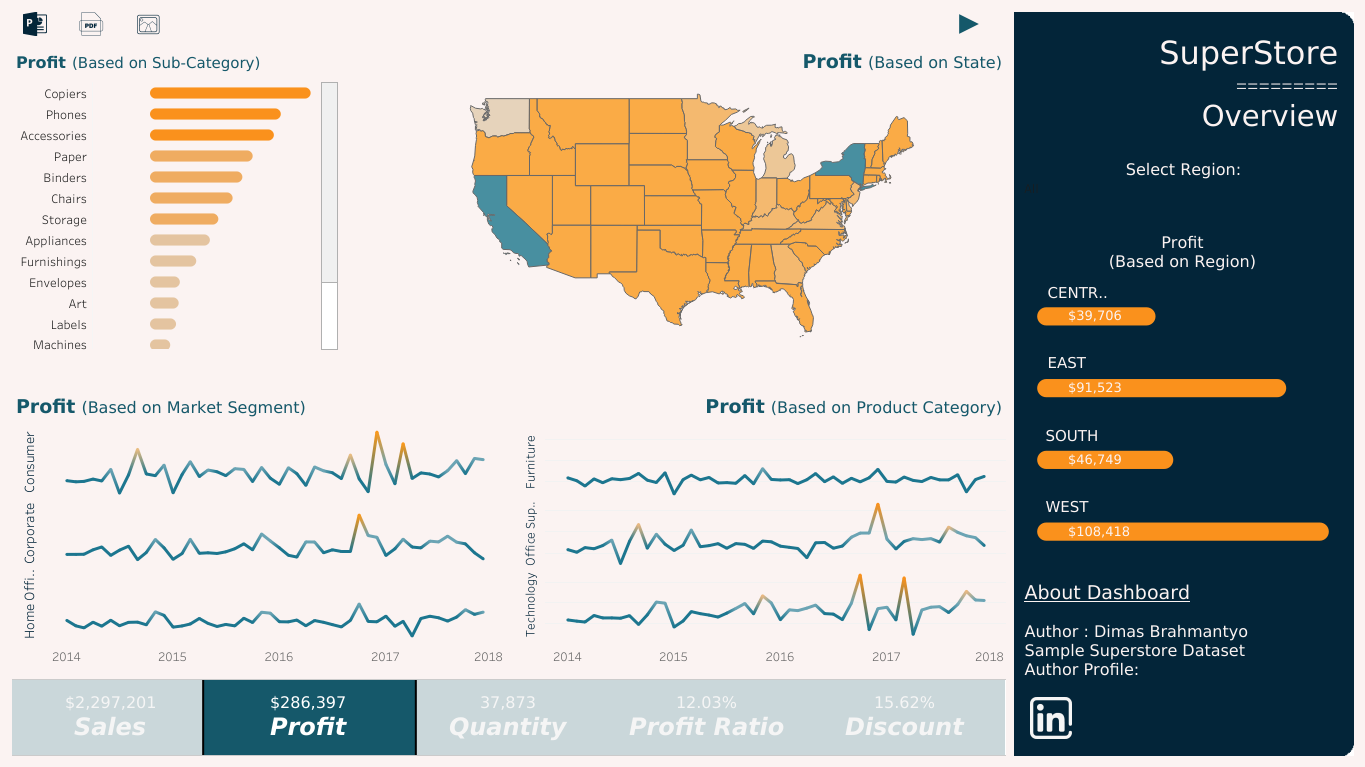

Layout of this report page (visuals, bound fields, positions):
{"tool":"tableau","page":{"name":"Dashboard 1 - Overview","canvas":[1366,768],"ordinal":0},"visuals":[{"type":"dashboard-object","box":[8,8,54,32]},{"type":"dashboard-object","box":[62,8,60,32]},{"type":"dashboard-object","box":[122,8,53,32]},{"type":"worksheet","title":"Next","mark":"Shape","rows":["Calculation_132293265469534221"],"box":[928,8,82,32]},{"type":"image","param":"Image/2.png","box":[1010,8,348,752]},{"type":"text","box":[1025,21,316,125]},{"type":"worksheet","title":"Sub Category Chart","mark":"Line","rows":["Sub-Category"],"box":[8,40,334,313]},{"type":"worksheet","title":"Based on State Map Chart","mark":"Automatic","box":[374,40,636,313]},{"type":"filter","title":"Based on State Map Chart","param":"[federated.1u37z9d020ffhv1e04nla11qurtp].[a1. Select Region Set]","box":[1022,159,323,55]},{"type":"worksheet","title":"Region Button","mark":"Line","rows":["Region"],"box":[1023,227,319,340]},{"type":"text","box":[1045,278,66,30]},{"type":"text","box":[1045,348,100,30]},{"type":"worksheet","title":"Market Segment Chart","mark":"Automatic","rows":["Segment","Calculation_1180506078081609731"],"cols":["Order Date"],"box":[8,385,501,290]},{"type":"worksheet","title":"Product Category Chart","mark":"Automatic","rows":["Category","Calculation_1180506078081609731"],"cols":["Order Date"],"box":[509,385,501,290]},{"type":"text","box":[1043,421,100,30]},{"type":"text","box":[1043,492,100,30]},{"type":"text","box":[1022,577,272,106]},{"type":"worksheet","title":"Field Button","mark":"Shape","box":[8,675,1002,85]},{"type":"worksheet","title":"LinkedIn","mark":"Shape","rows":["Calculation_1125055507973922816"],"box":[1022,691,57,53]}]}

Visuals, with their boxes on the page's 1366x768 design canvas (x1, y1, x2, y2). These are canvas units, not pixel positions in the 1365x767 screenshot, which may show the page scaled, cropped or inside an application window:
dashboard-object: (x1=8, y1=8, x2=62, y2=40)
dashboard-object: (x1=62, y1=8, x2=122, y2=40)
dashboard-object: (x1=122, y1=8, x2=175, y2=40)
"Next" worksheet (Shape marks): (x1=928, y1=8, x2=1010, y2=40)
image: (x1=1010, y1=8, x2=1358, y2=760)
text: (x1=1025, y1=21, x2=1341, y2=146)
"Sub Category Chart" worksheet (Line marks): (x1=8, y1=40, x2=342, y2=353)
"Based on State Map Chart" worksheet: (x1=374, y1=40, x2=1010, y2=353)
"Based on State Map Chart" filter: (x1=1022, y1=159, x2=1345, y2=214)
"Region Button" worksheet (Line marks): (x1=1023, y1=227, x2=1342, y2=567)
text: (x1=1045, y1=278, x2=1111, y2=308)
text: (x1=1045, y1=348, x2=1145, y2=378)
"Market Segment Chart" worksheet: (x1=8, y1=385, x2=509, y2=675)
"Product Category Chart" worksheet: (x1=509, y1=385, x2=1010, y2=675)
text: (x1=1043, y1=421, x2=1143, y2=451)
text: (x1=1043, y1=492, x2=1143, y2=522)
text: (x1=1022, y1=577, x2=1294, y2=683)
"Field Button" worksheet (Shape marks): (x1=8, y1=675, x2=1010, y2=760)
"LinkedIn" worksheet (Shape marks): (x1=1022, y1=691, x2=1079, y2=744)
